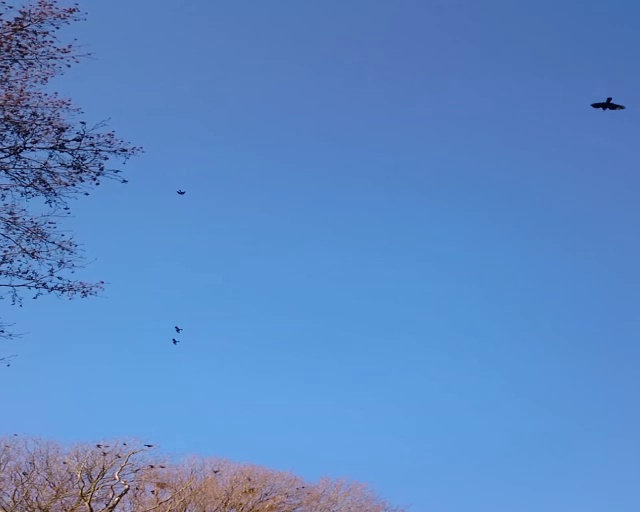BIRD: (590, 96, 625, 111)
